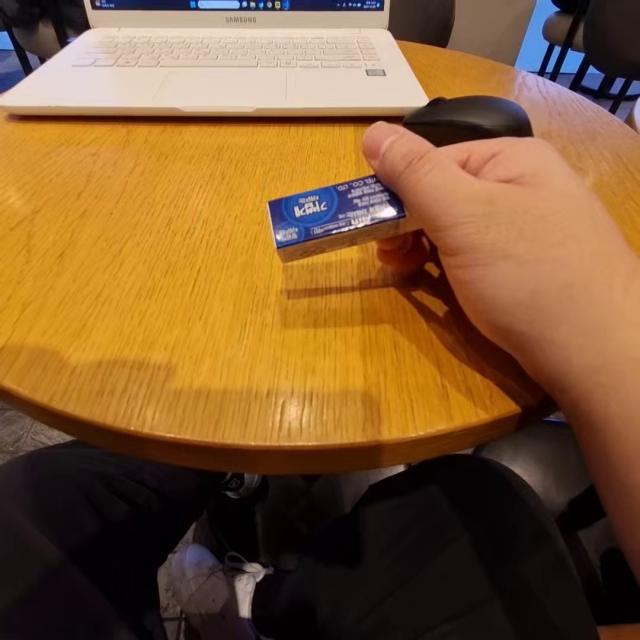eraser: (245, 180, 414, 253)
grab_eraser: (279, 129, 640, 407)
hand: (348, 117, 608, 336)
mouse: (390, 82, 552, 161)
